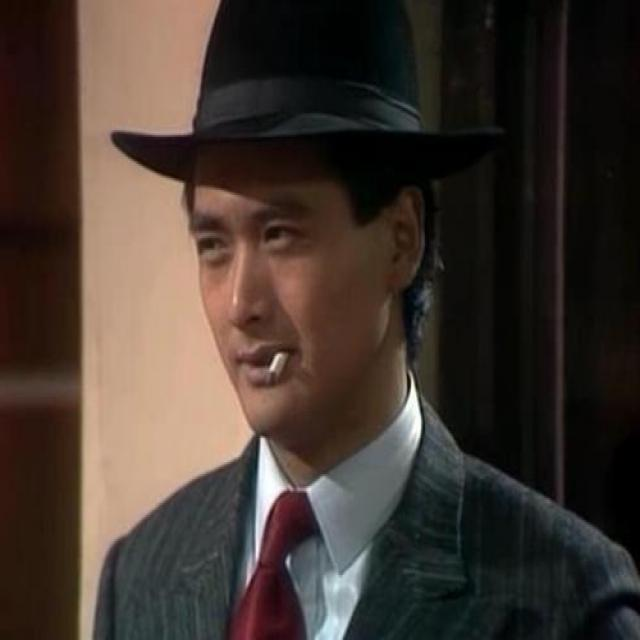smoking: (261, 339, 292, 392)
